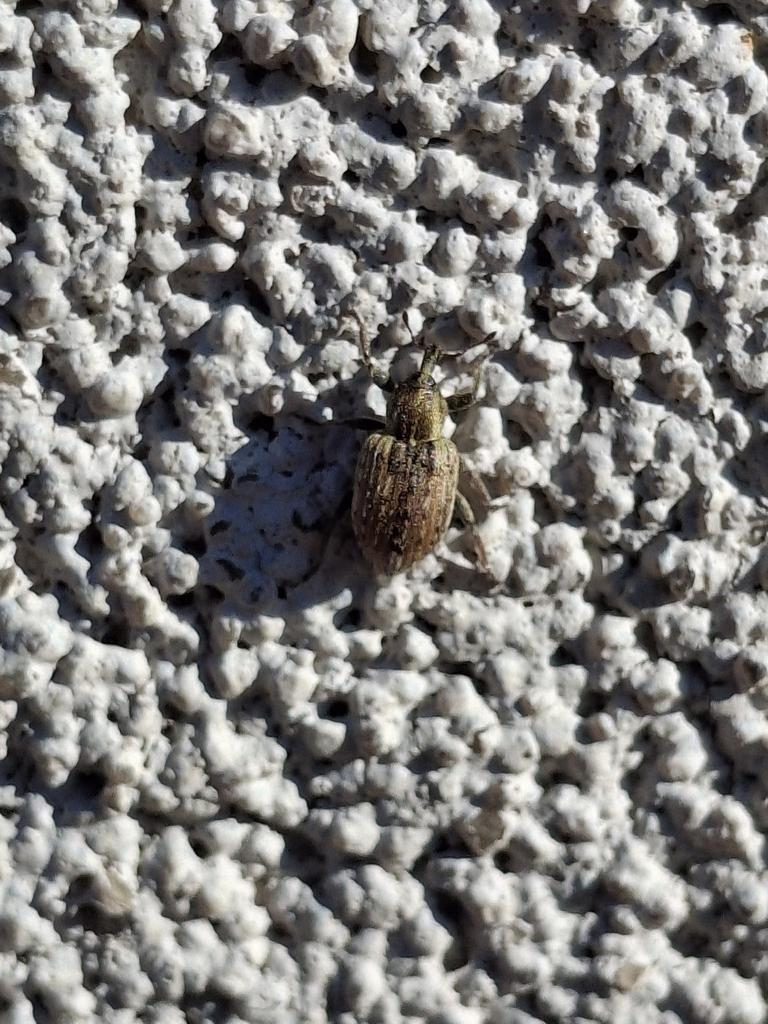weevils: (273, 281, 566, 613)
